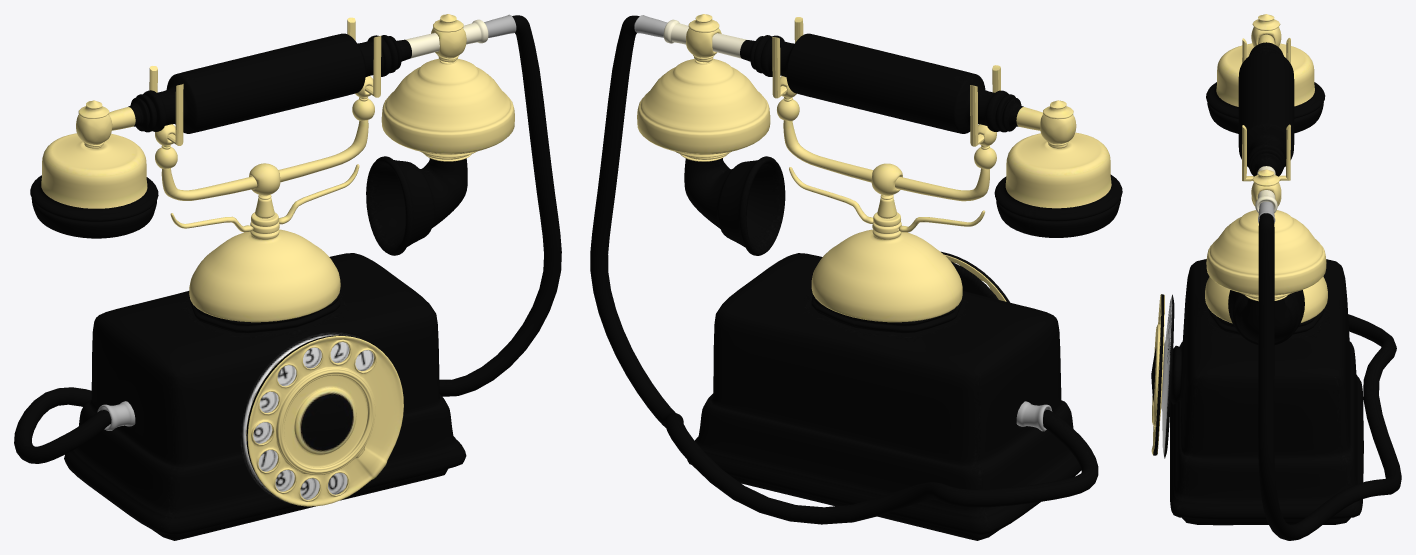
File: asset.glb
3 renders of one model, left to right at view 1: azimuth 30°, elevation 25°; view 2: azimuth 150°, elevation 25°; view 3: azimuth 270°, elevation 25°, orthographic. The views are drawn at different scales.
Visible parts, largest first — view 1: Object_2, Object_3, Object_5, Object_6, Object_4; view 2: Object_2, Object_3, Object_4, Object_5, Object_6; view 3: Object_2, Object_3, Object_4, Object_5, Object_6.
Part boxes in pixels (x1,y1,x2,y2): Object_2: (64,14,516,540); Object_3: (30,19,488,503); Object_5: (155,36,514,255); Object_6: (161,20,381,322); Object_4: (14,14,561,463); Object_2: (634,15,1081,540); Object_3: (663,19,1122,299); Object_4: (590,14,1098,524); Object_5: (637,17,996,255); Object_6: (772,17,989,322); Object_2: (1151,38,1363,525); Object_3: (1161,34,1325,458); Object_4: (1251,14,1401,540); Object_5: (1206,125,1326,344); Object_6: (1205,126,1327,323).
Size of the model in its own units: 6.9 by 5.38 by 3.19.
Materials: 1 (1 with a texture image).
